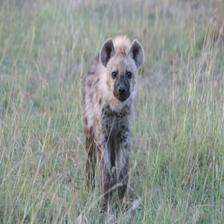hyena: (82, 30, 150, 204)
